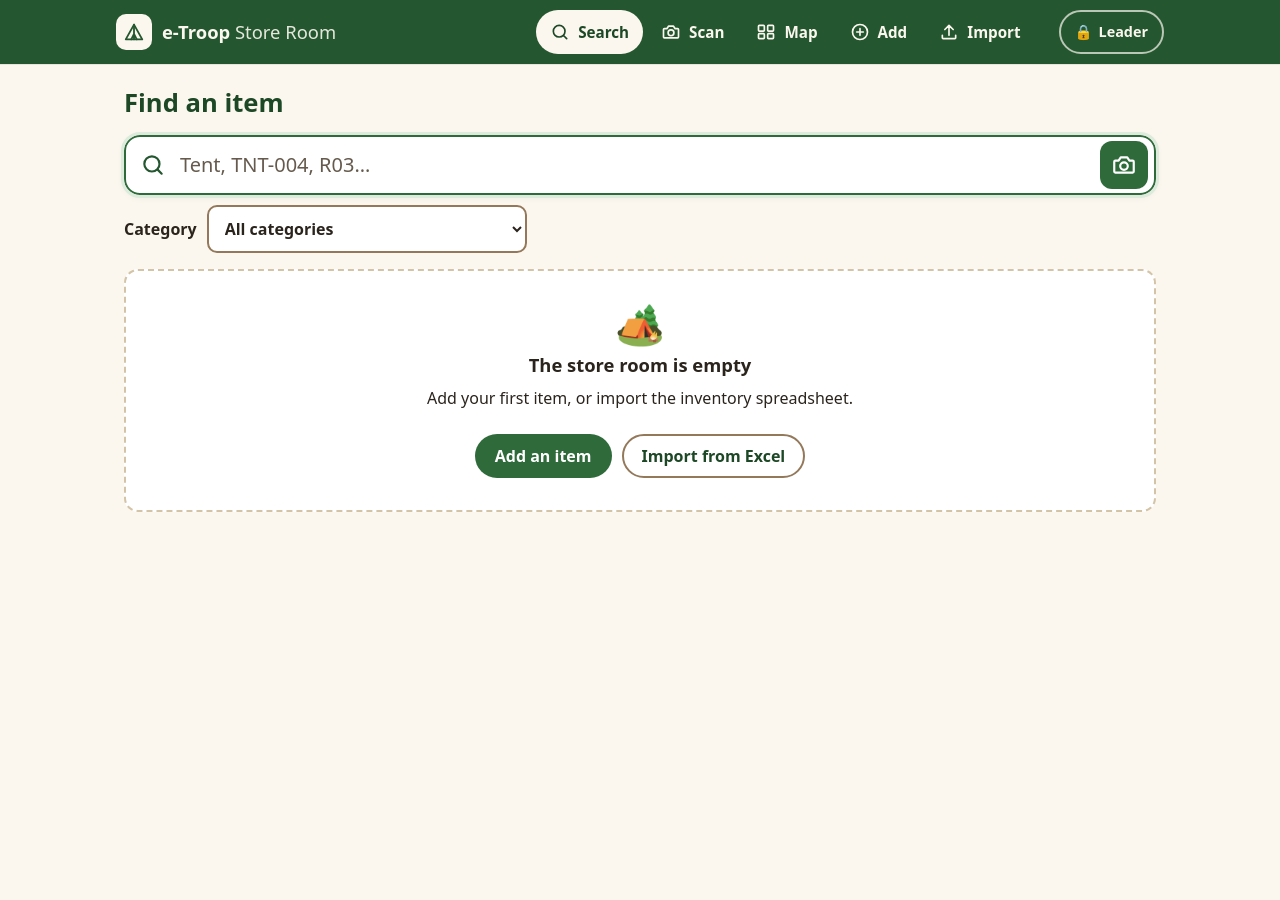
PIN dialog (P1, Retry-After, 503, 6–8 digits) › after a wrong PIN the box keeps focus, and Escape still closes the dialog
Click the button with test id "leader-button" at (1111, 32), box [1058, 10, 1164, 54]
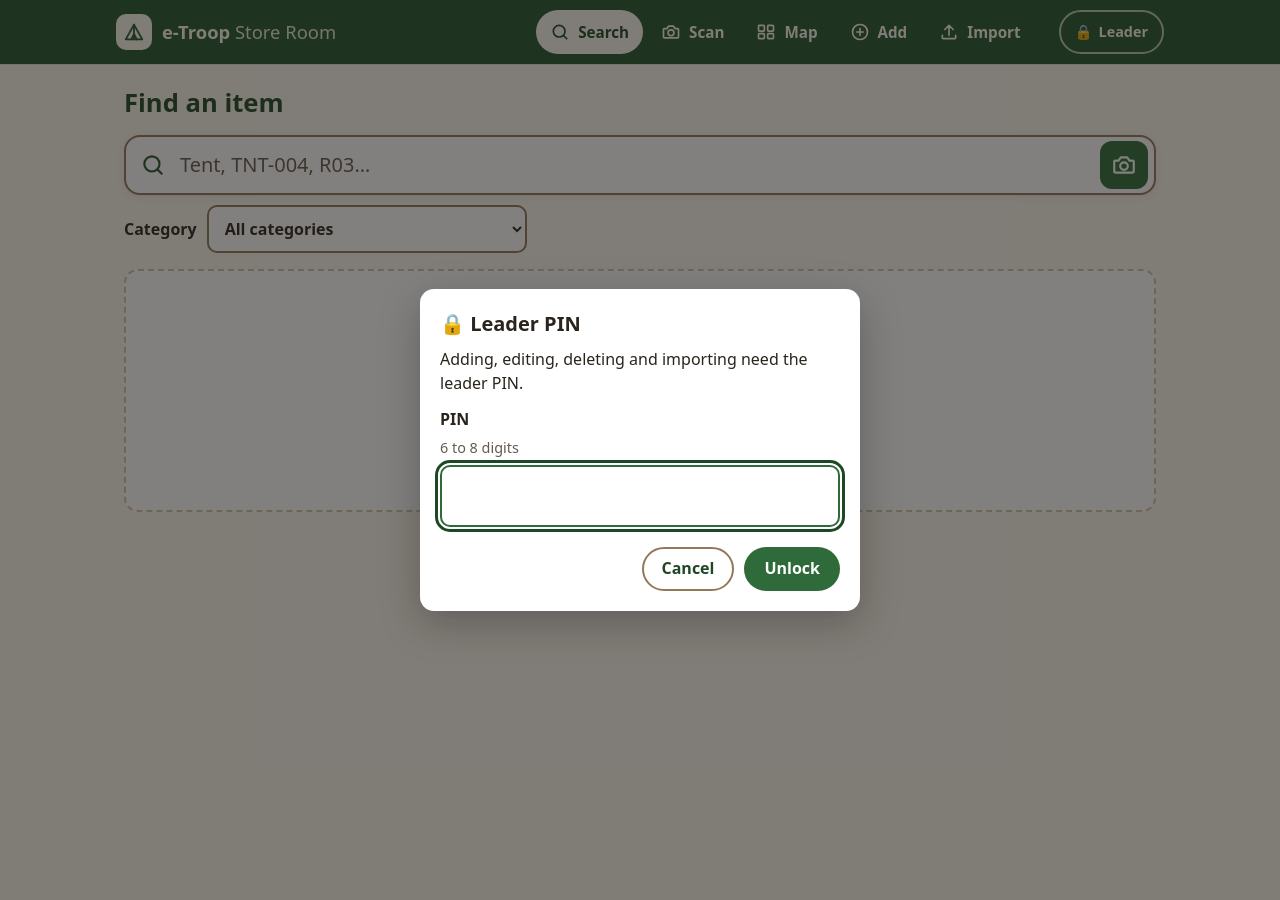
Type "111111" into the password field labelled "PIN" at (640, 496), box [440, 465, 840, 527]
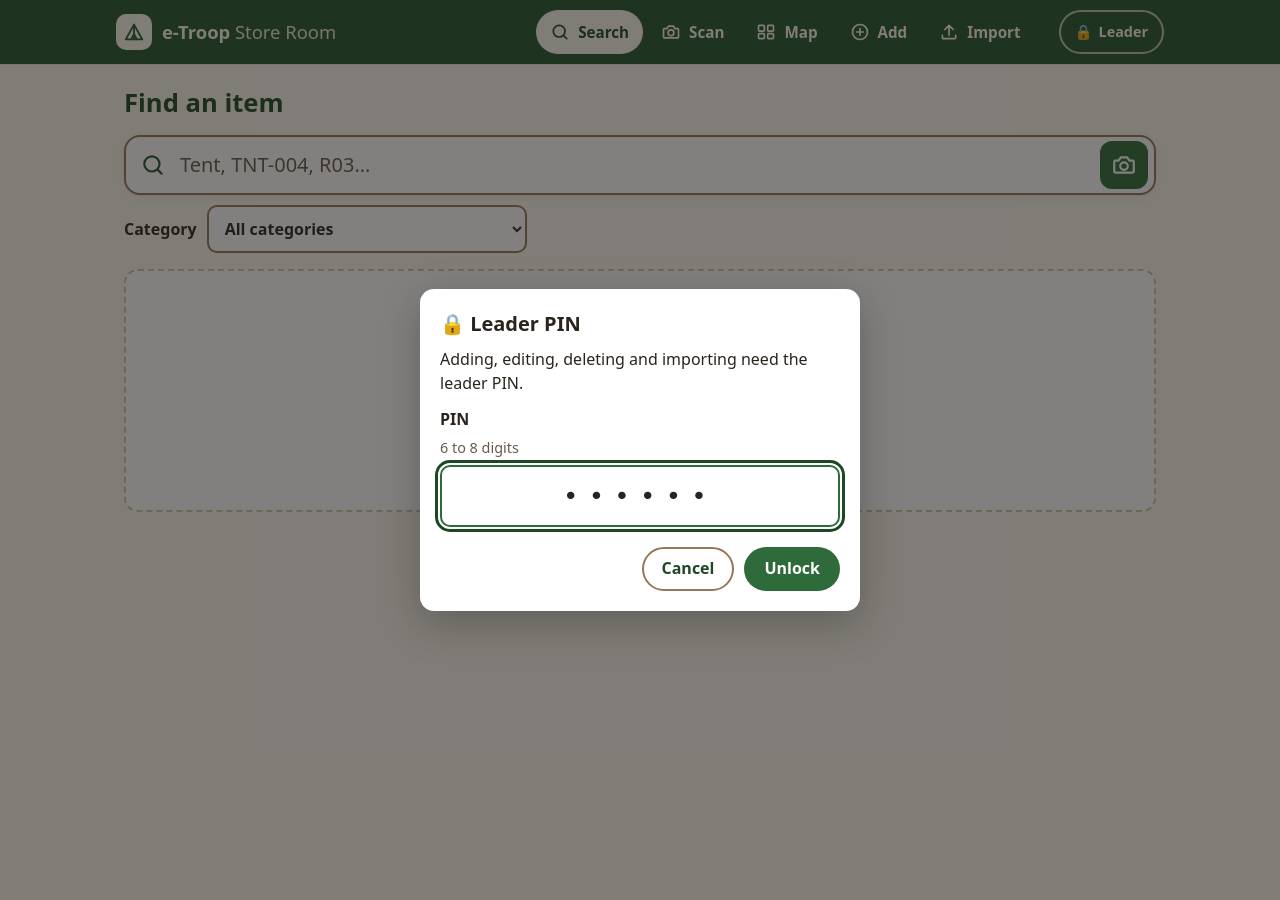
Click the button "Unlock" at (792, 569), box [744, 547, 840, 591]
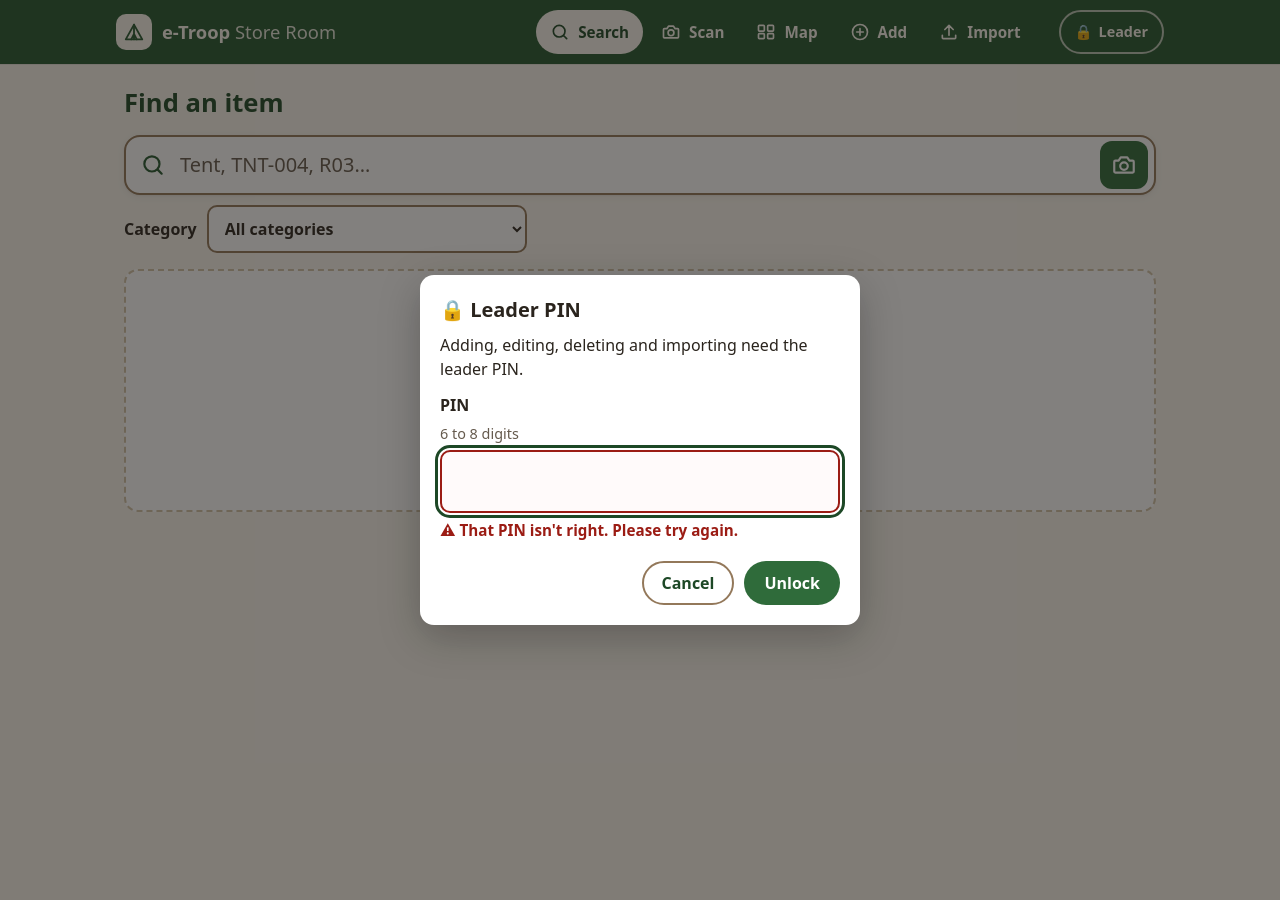
Expected: the text "⚠ That PIN isn't right. Please try again." is shown, [440, 520, 738, 540]
Expected: the password field labelled "PIN" is empty, [440, 450, 840, 513]
Press Escape
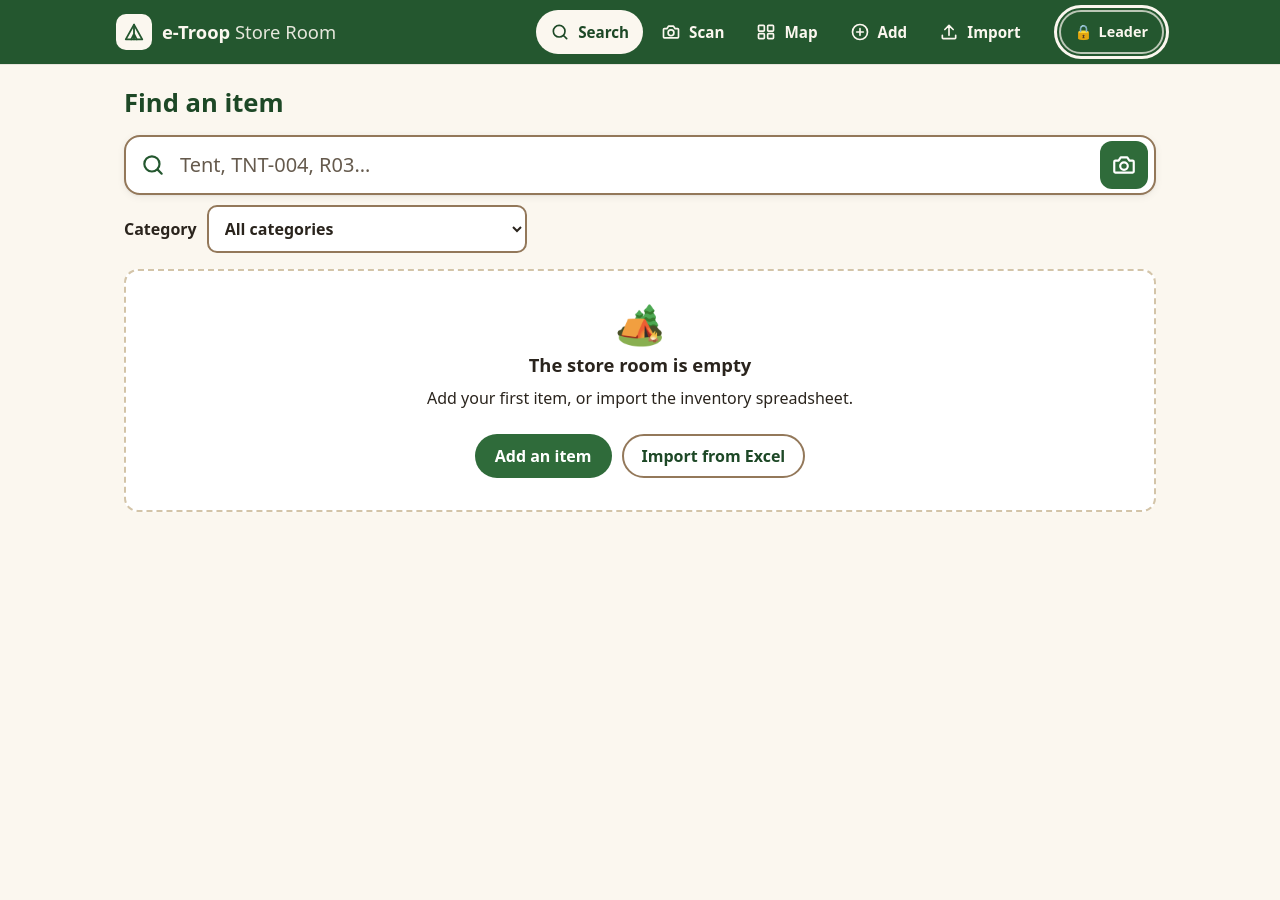
Expected: the dialog is gone
